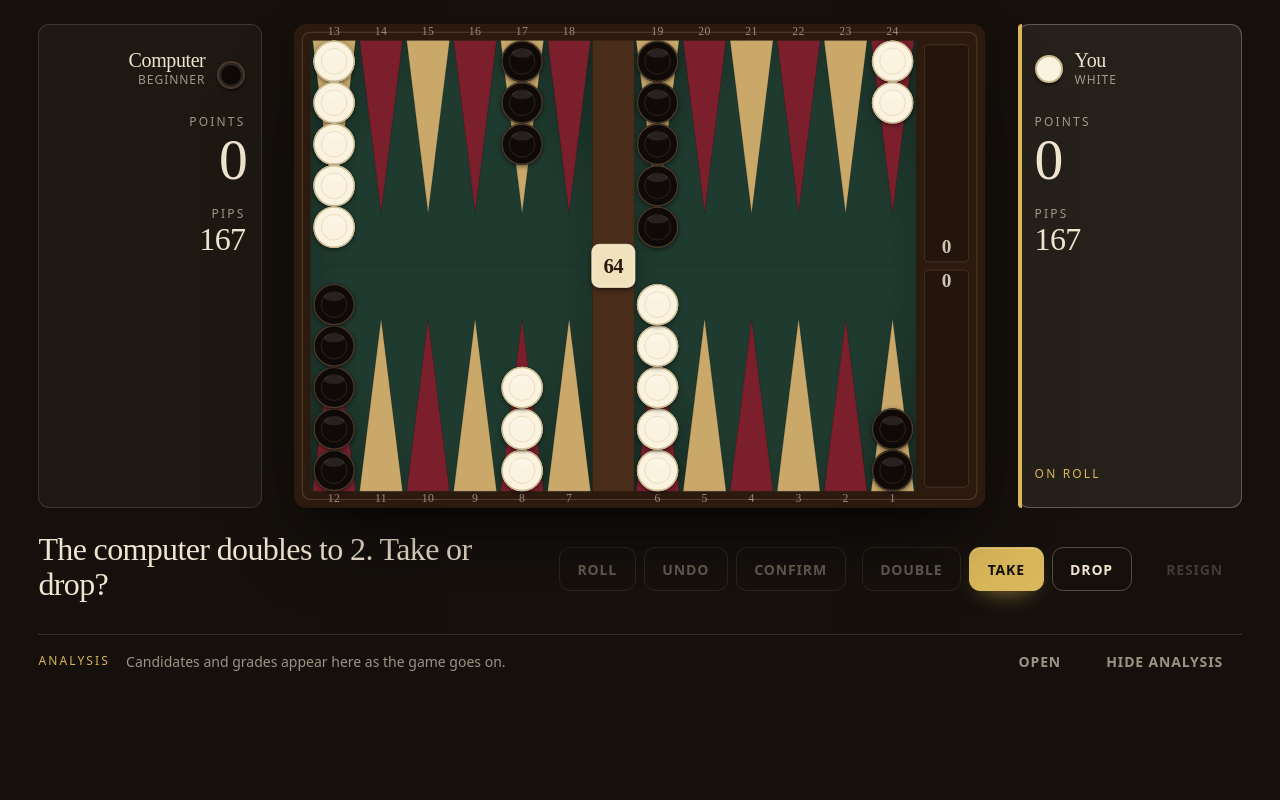
<TableLayout> › offers Take and Drop when the computer doubles, and shows the cube on its owner's card
Expected: the button "Drop" is enabled, [1052,547,1132,591]
Expected: the button "Roll" is disabled, [559,547,636,591]
What coordinates should you click on to do the following:
click the button "Take"
I would click on:
 (1006, 569)
Its box is [969,547,1044,591].
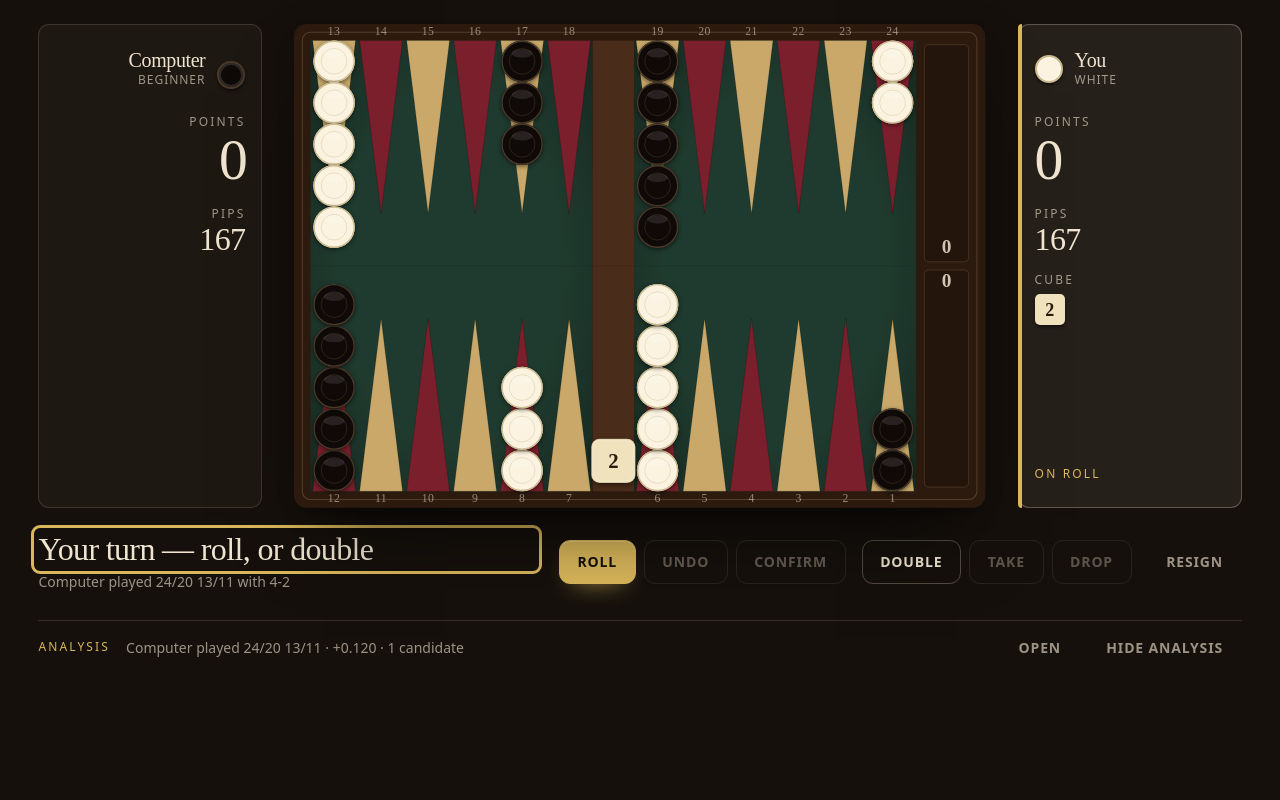
Now the element showing "2" is shown, box [1035,294,1065,325]
Now the button "Double" is enabled, box [862,540,961,584]
